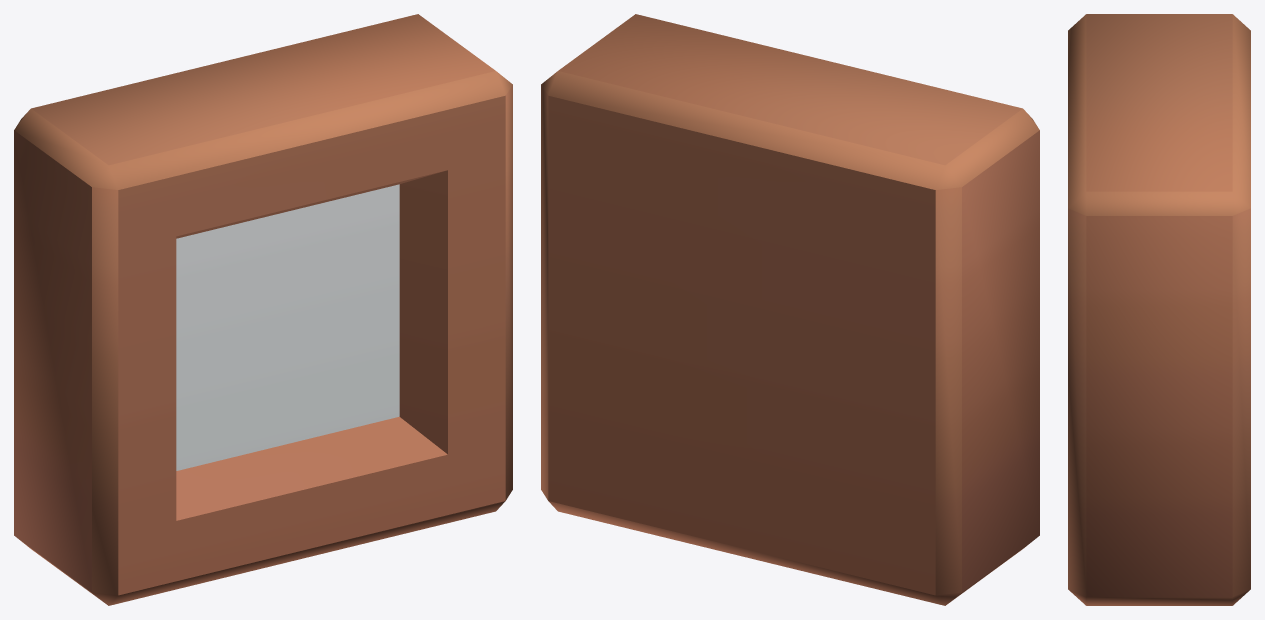
Rendered from pictureframe_small_C.glb.
3 renders of one model, left to right at view 1: azimuth 30°, elevation 25°; view 2: azimuth 150°, elevation 25°; view 3: azimuth 270°, elevation 25°, orthographic. The views are drawn at different scales.
Visible parts, largest first — view 1: pictureframe_small_C; view 2: pictureframe_small_C; view 3: pictureframe_small_C.
Boxes of the visible parts, bbox=[...] form: pictureframe_small_C: bbox=[14, 14, 512, 605]; pictureframe_small_C: bbox=[541, 14, 1039, 605]; pictureframe_small_C: bbox=[1068, 14, 1250, 605].
Size of the model in its own units: 0.5 by 0.5 by 0.2.
Materials: 1 (1 with a texture image).
